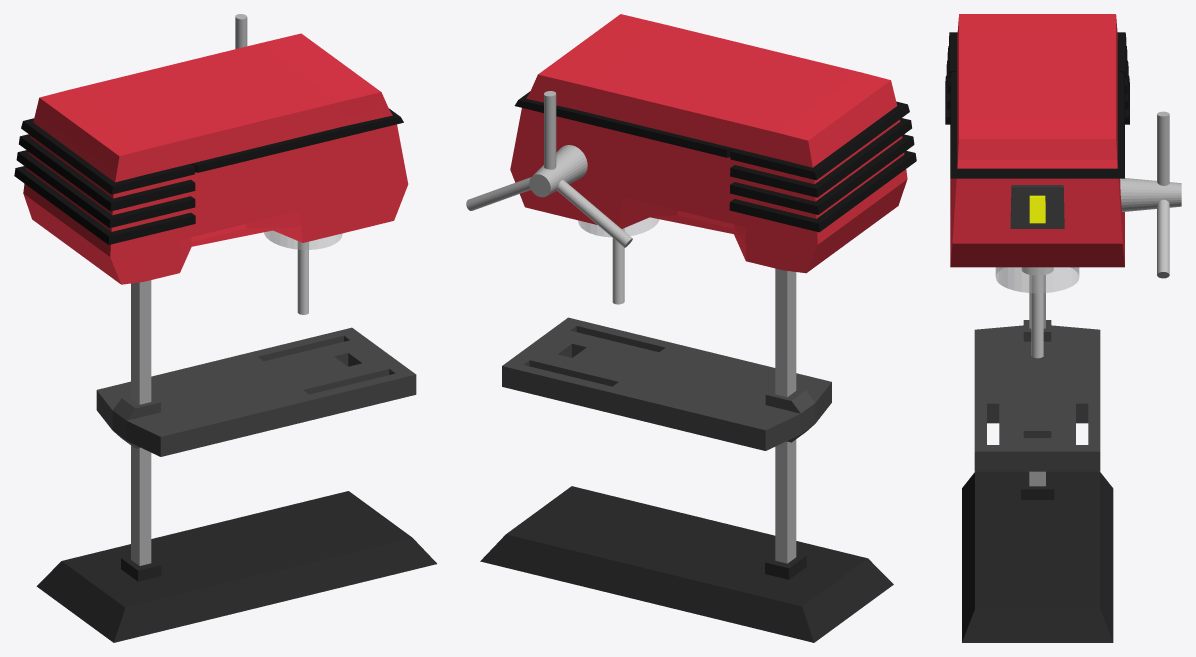
Rendered from drilling_press.fbx.
The picture shows the model from 3 angles, left to right: view 1: azimuth 30°, elevation 25°; view 2: azimuth 150°, elevation 25°; view 3: azimuth 270°, elevation 25°; orthographic projection. The views are drawn at different scales.
Parts seen in each view (by area): view 1: poleStand; view 2: poleStand; view 3: poleStand.
Boxes of the visible parts, x1,y1,x2,y2 form: poleStand: (14, 14, 436, 642); poleStand: (466, 14, 916, 642); poleStand: (945, 14, 1181, 642).
Bounding box in the file's own units: 112 × 157 × 69.46.
